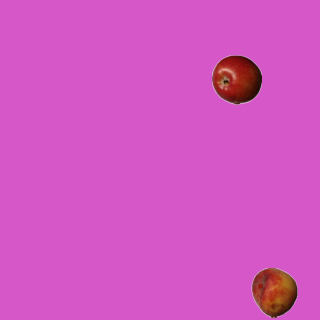Apple Braeburn: (211, 54, 261, 104)
Peach: (249, 267, 299, 317)
